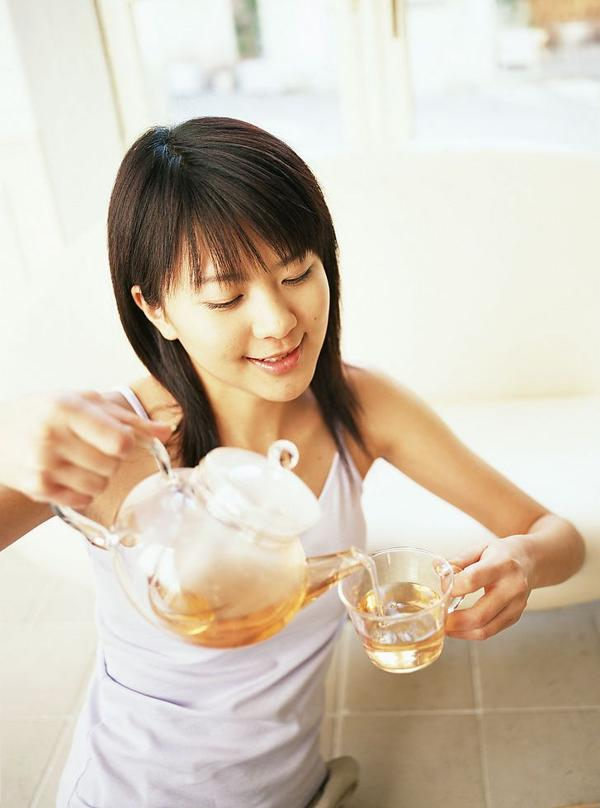person: (2, 115, 584, 807)
